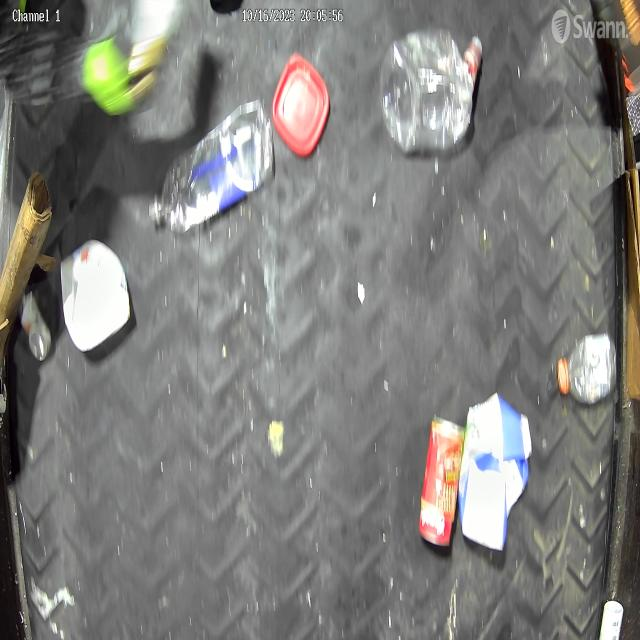can: (418, 414, 467, 545), (18, 290, 53, 362)
non_white_jug: (458, 392, 532, 552)
plastic_bottle: (148, 100, 274, 236), (380, 25, 482, 155), (556, 332, 618, 406)
